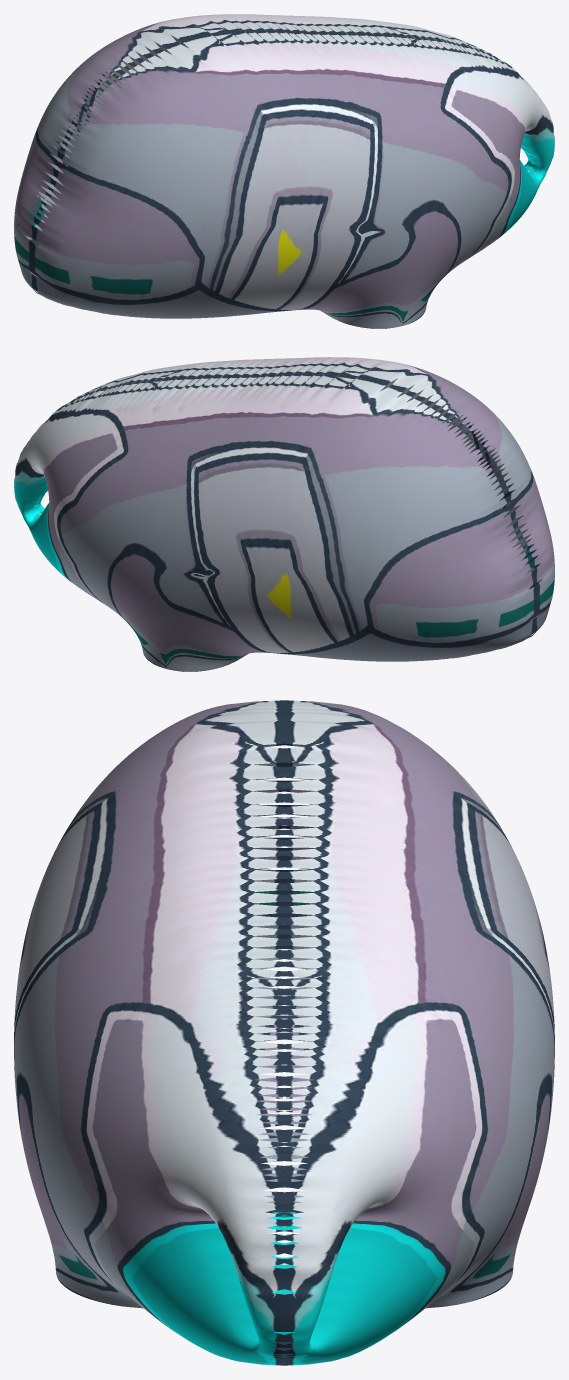
File: cyan_console.glb
The picture shows the model from 3 angles, top to bottom: view 1: azimuth 30°, elevation 25°; view 2: azimuth 150°, elevation 25°; view 3: azimuth 270°, elevation 25°; orthographic projection. The views are drawn at different scales.
Parts seen in each view (by area): view 1: cyan_console; view 2: cyan_console; view 3: cyan_console.
Part boxes in pixels (left/top/right/bottom): cyan_console: left=14, top=14, right=554, bottom=328; cyan_console: left=14, top=357, right=554, bottom=671; cyan_console: left=14, top=700, right=554, bottom=1365.
Size of the model in its own units: 0.989 by 0.4943 by 0.5581.
Materials: 1 (1 with a texture image).
